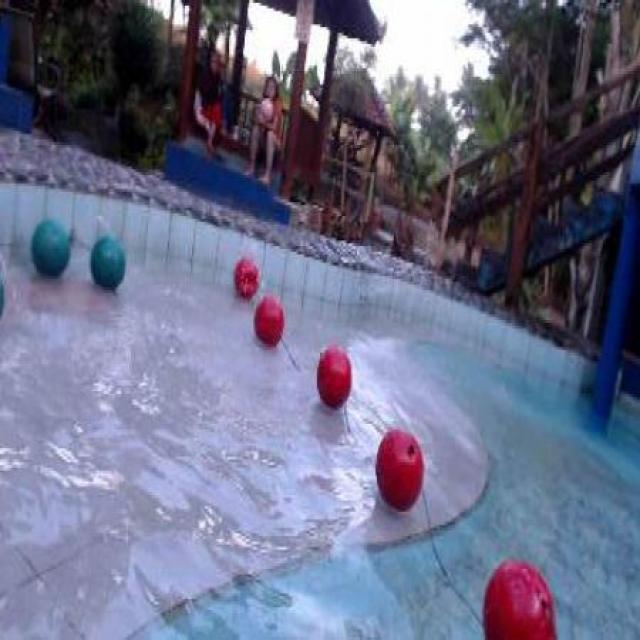buoy: (482, 556, 556, 636), (373, 430, 423, 512), (314, 346, 350, 409), (30, 219, 68, 273), (90, 234, 125, 291), (252, 292, 283, 348), (231, 258, 258, 300)
